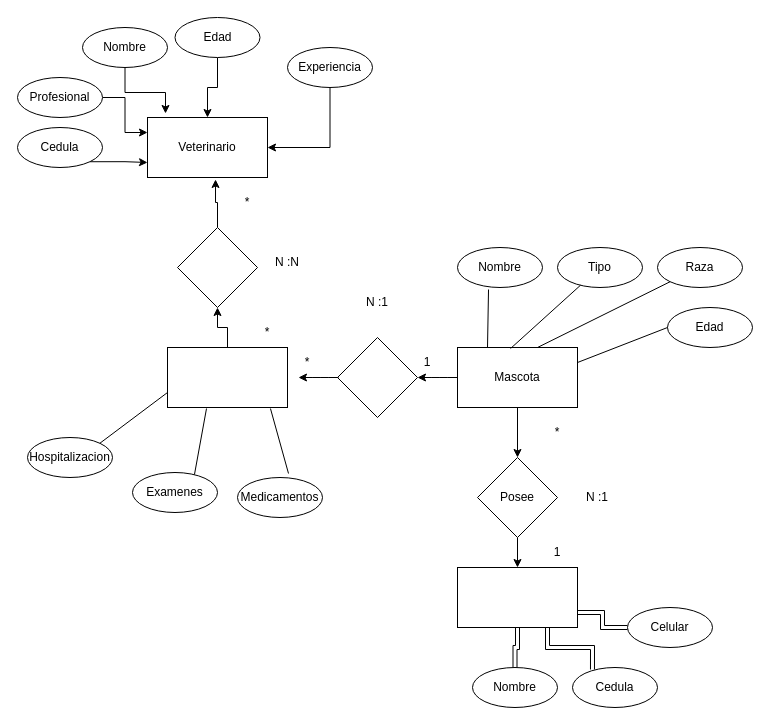
The diagram is 770 pixels wide and 725 high, and some of its shapes have lost their labels. Here are the shapes that lost their labels. From the top down, the centre of each, then its label:
At (217,267): "Aplicado por".
At (227,377): "Servicio veterinario".
At (377,377): "Entra".
At (517,597): "Dueño".
